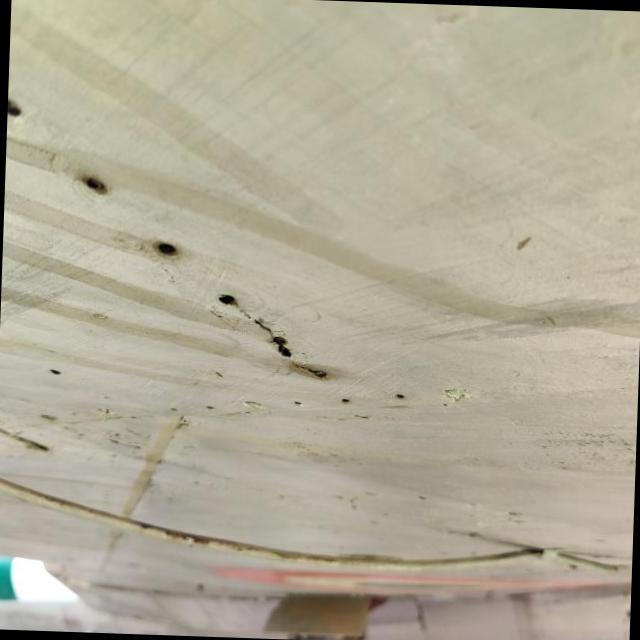Crack: (217, 295, 328, 379)
